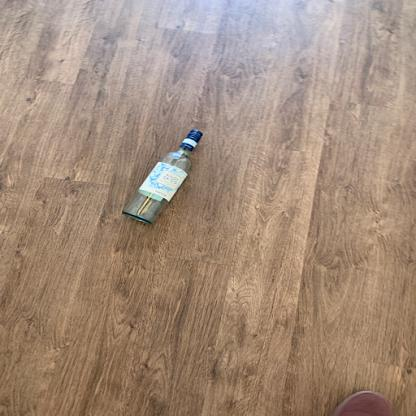trash: (119, 127, 206, 230)
